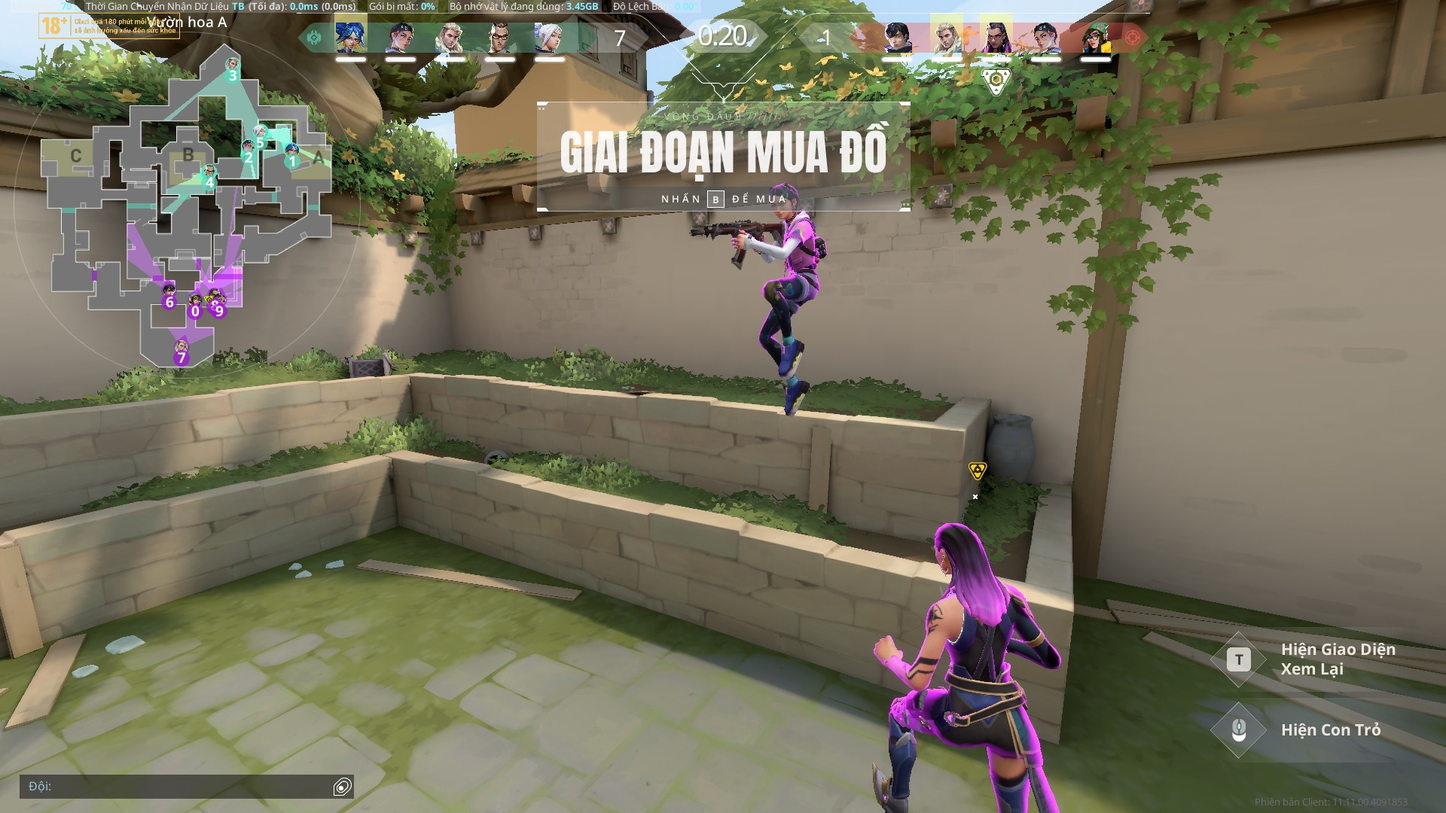body: (935, 579, 1024, 677), (777, 214, 817, 266)
head: (928, 513, 988, 582), (765, 184, 798, 218)
